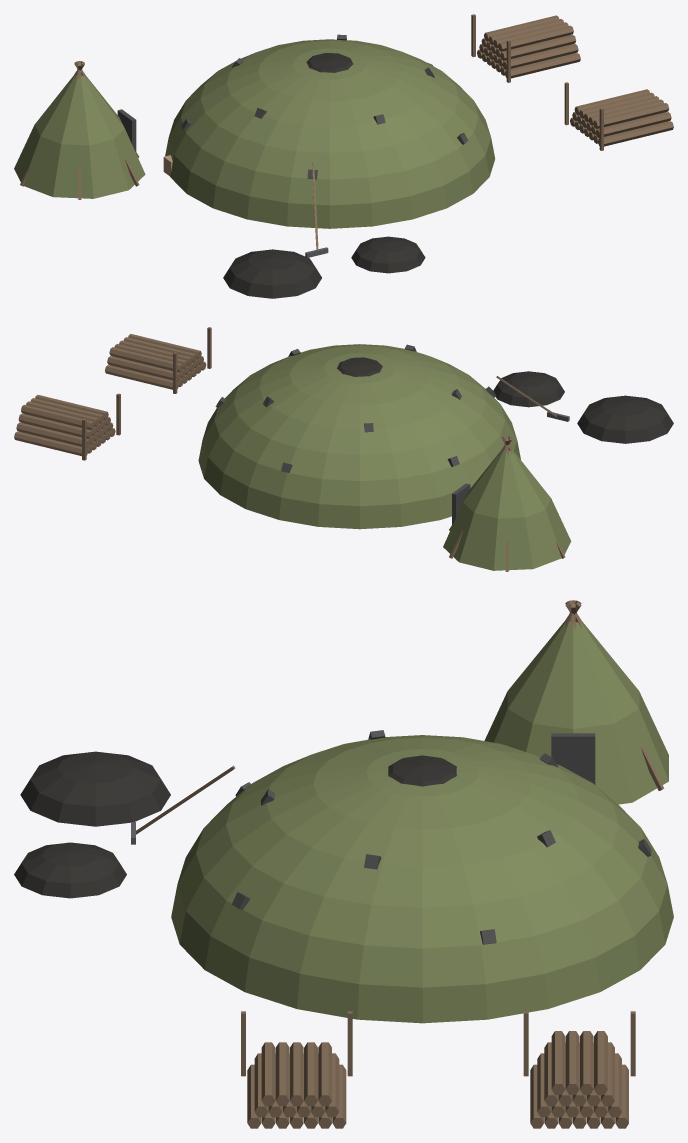
The model's file is charcoal_clamp.glb.
The picture shows the model from 3 angles, top to bottom: view 1: azimuth 30°, elevation 25°; view 2: azimuth 150°, elevation 25°; view 3: azimuth 270°, elevation 25°; orthographic projection. The views are drawn at different scales.
Parts seen in each view (by area): view 1: CharcoalClamp; view 2: CharcoalClamp; view 3: CharcoalClamp.
Part boxes in pixels (x1,y1,x2,y2): CharcoalClamp: (14,14,673,298); CharcoalClamp: (14,327,673,571); CharcoalClamp: (14,600,673,1128).
Size of the model in its own units: 15.25 by 2.94 by 10.5.
